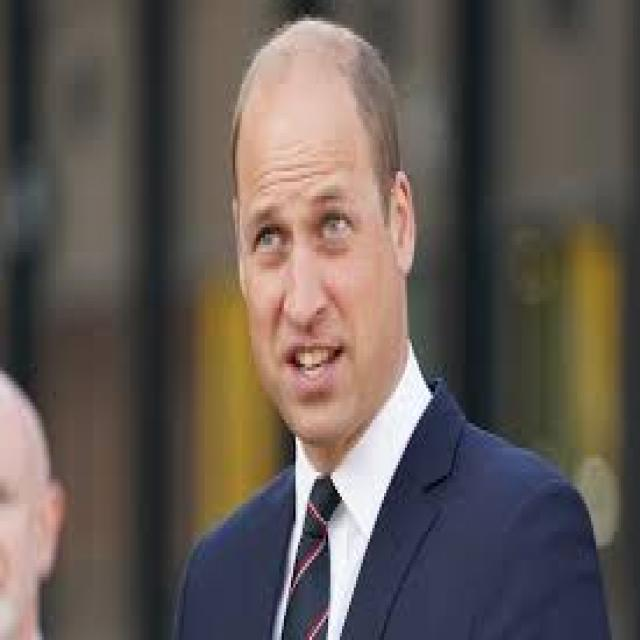bald: (212, 12, 408, 202)
